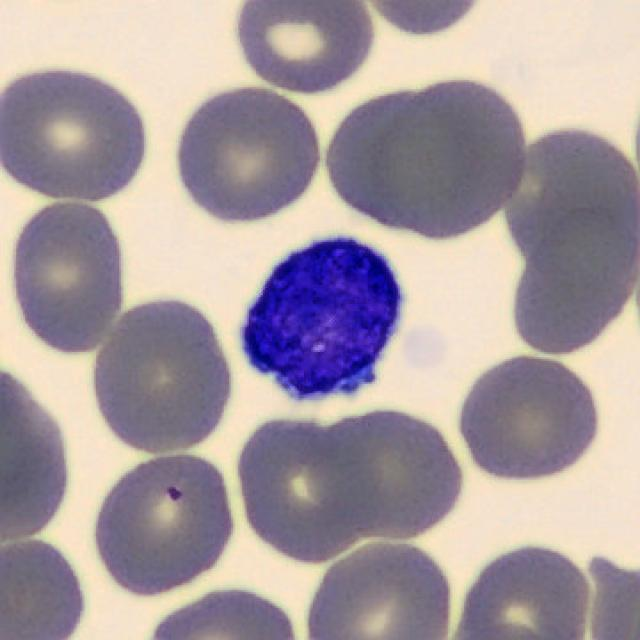Linfocito: (244, 240, 398, 396)
